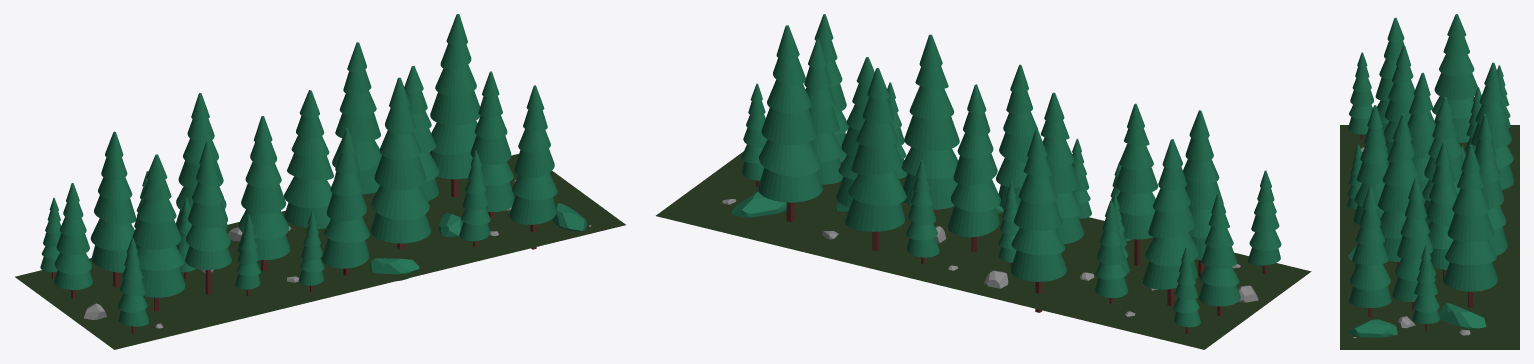
File: Tile2.fbx
3 renders of one model, left to right at view 1: azimuth 30°, elevation 25°; view 2: azimuth 150°, elevation 25°; view 3: azimuth 270°, elevation 25°, orthographic. The views are drawn at different scales.
Parts seen in each view (by area): view 1: Tile2; view 2: Tile2; view 3: Tile2.
Part boxes in pixels (box(x1,y1,x2,y2)): Tile2: box(15, 14, 625, 349); Tile2: box(656, 14, 1311, 349); Tile2: box(1340, 14, 1519, 349).
Size of the model in its own units: 12046 by 4683 by 4073.
